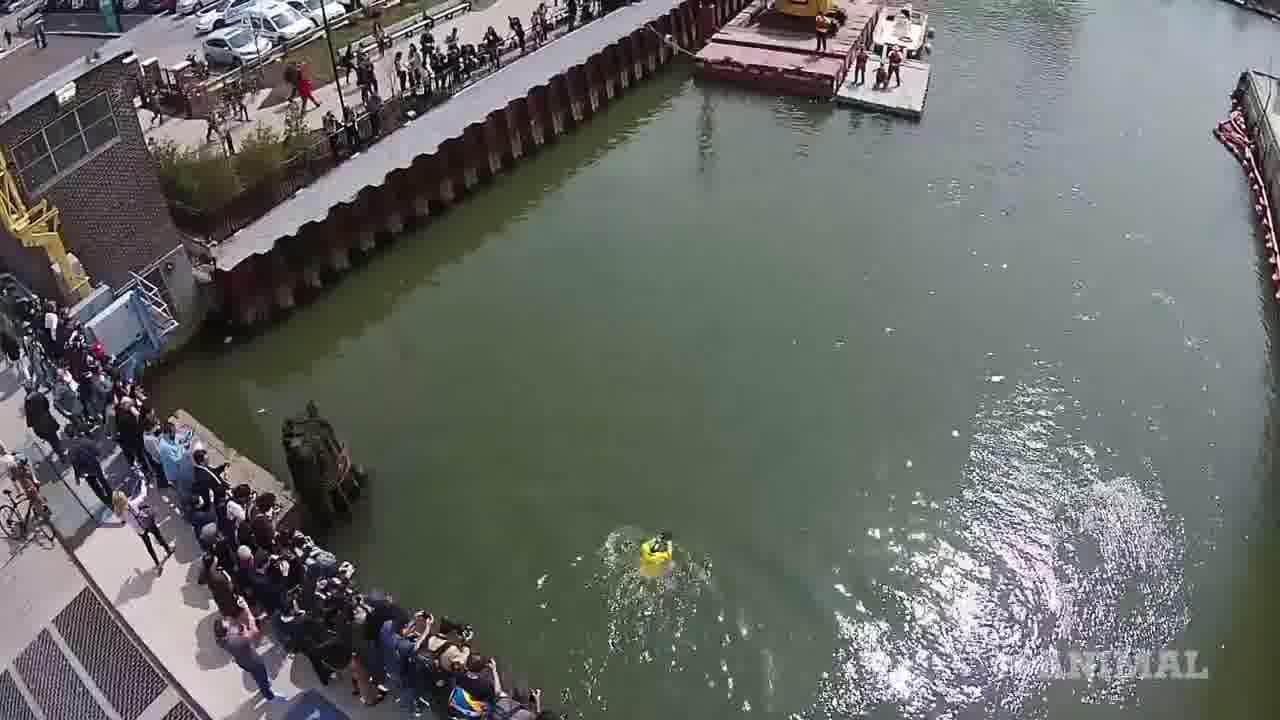swimmer: (631, 513, 679, 585)
